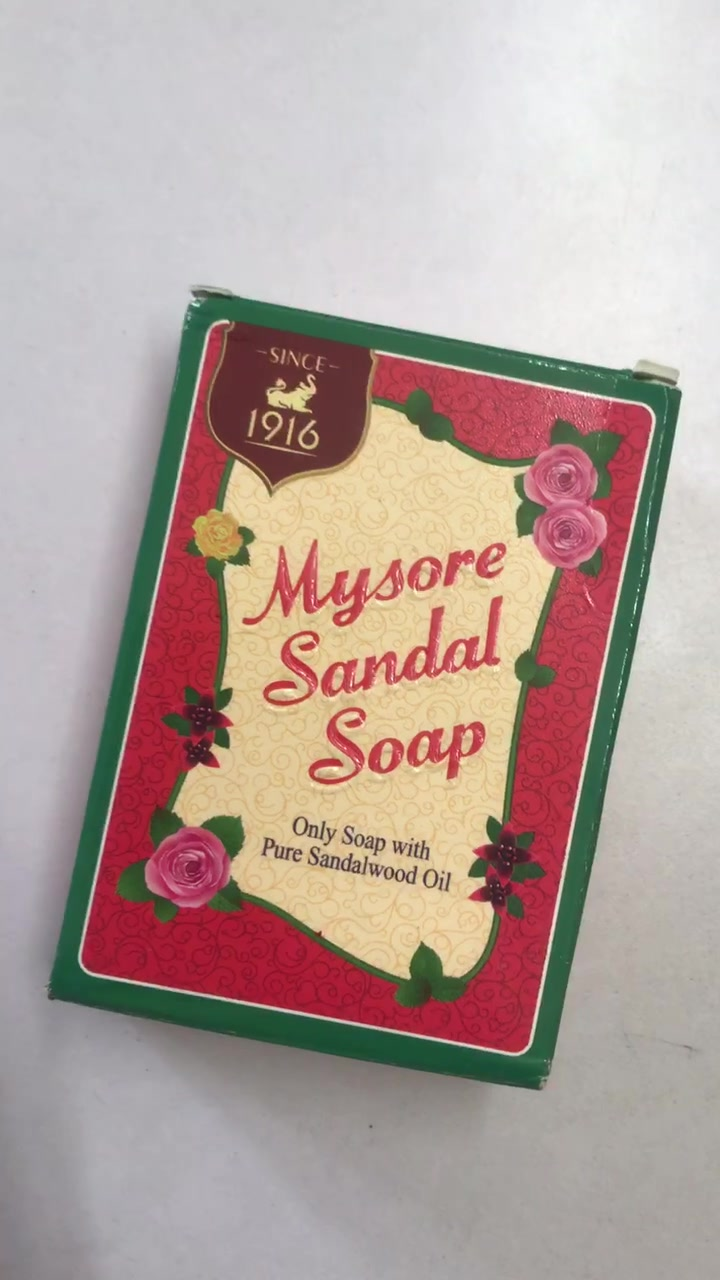mysore sandal soap: (48, 291, 685, 1092)
